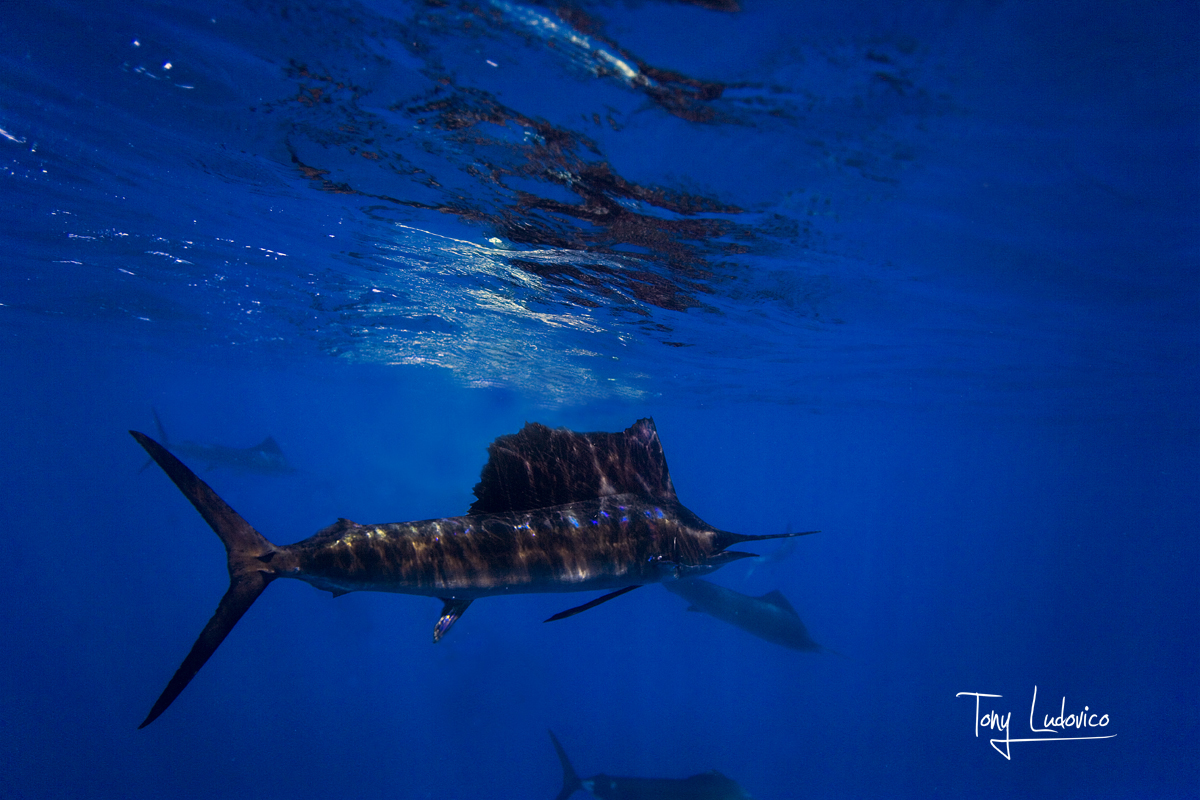swordfish: (94, 409, 837, 718)
